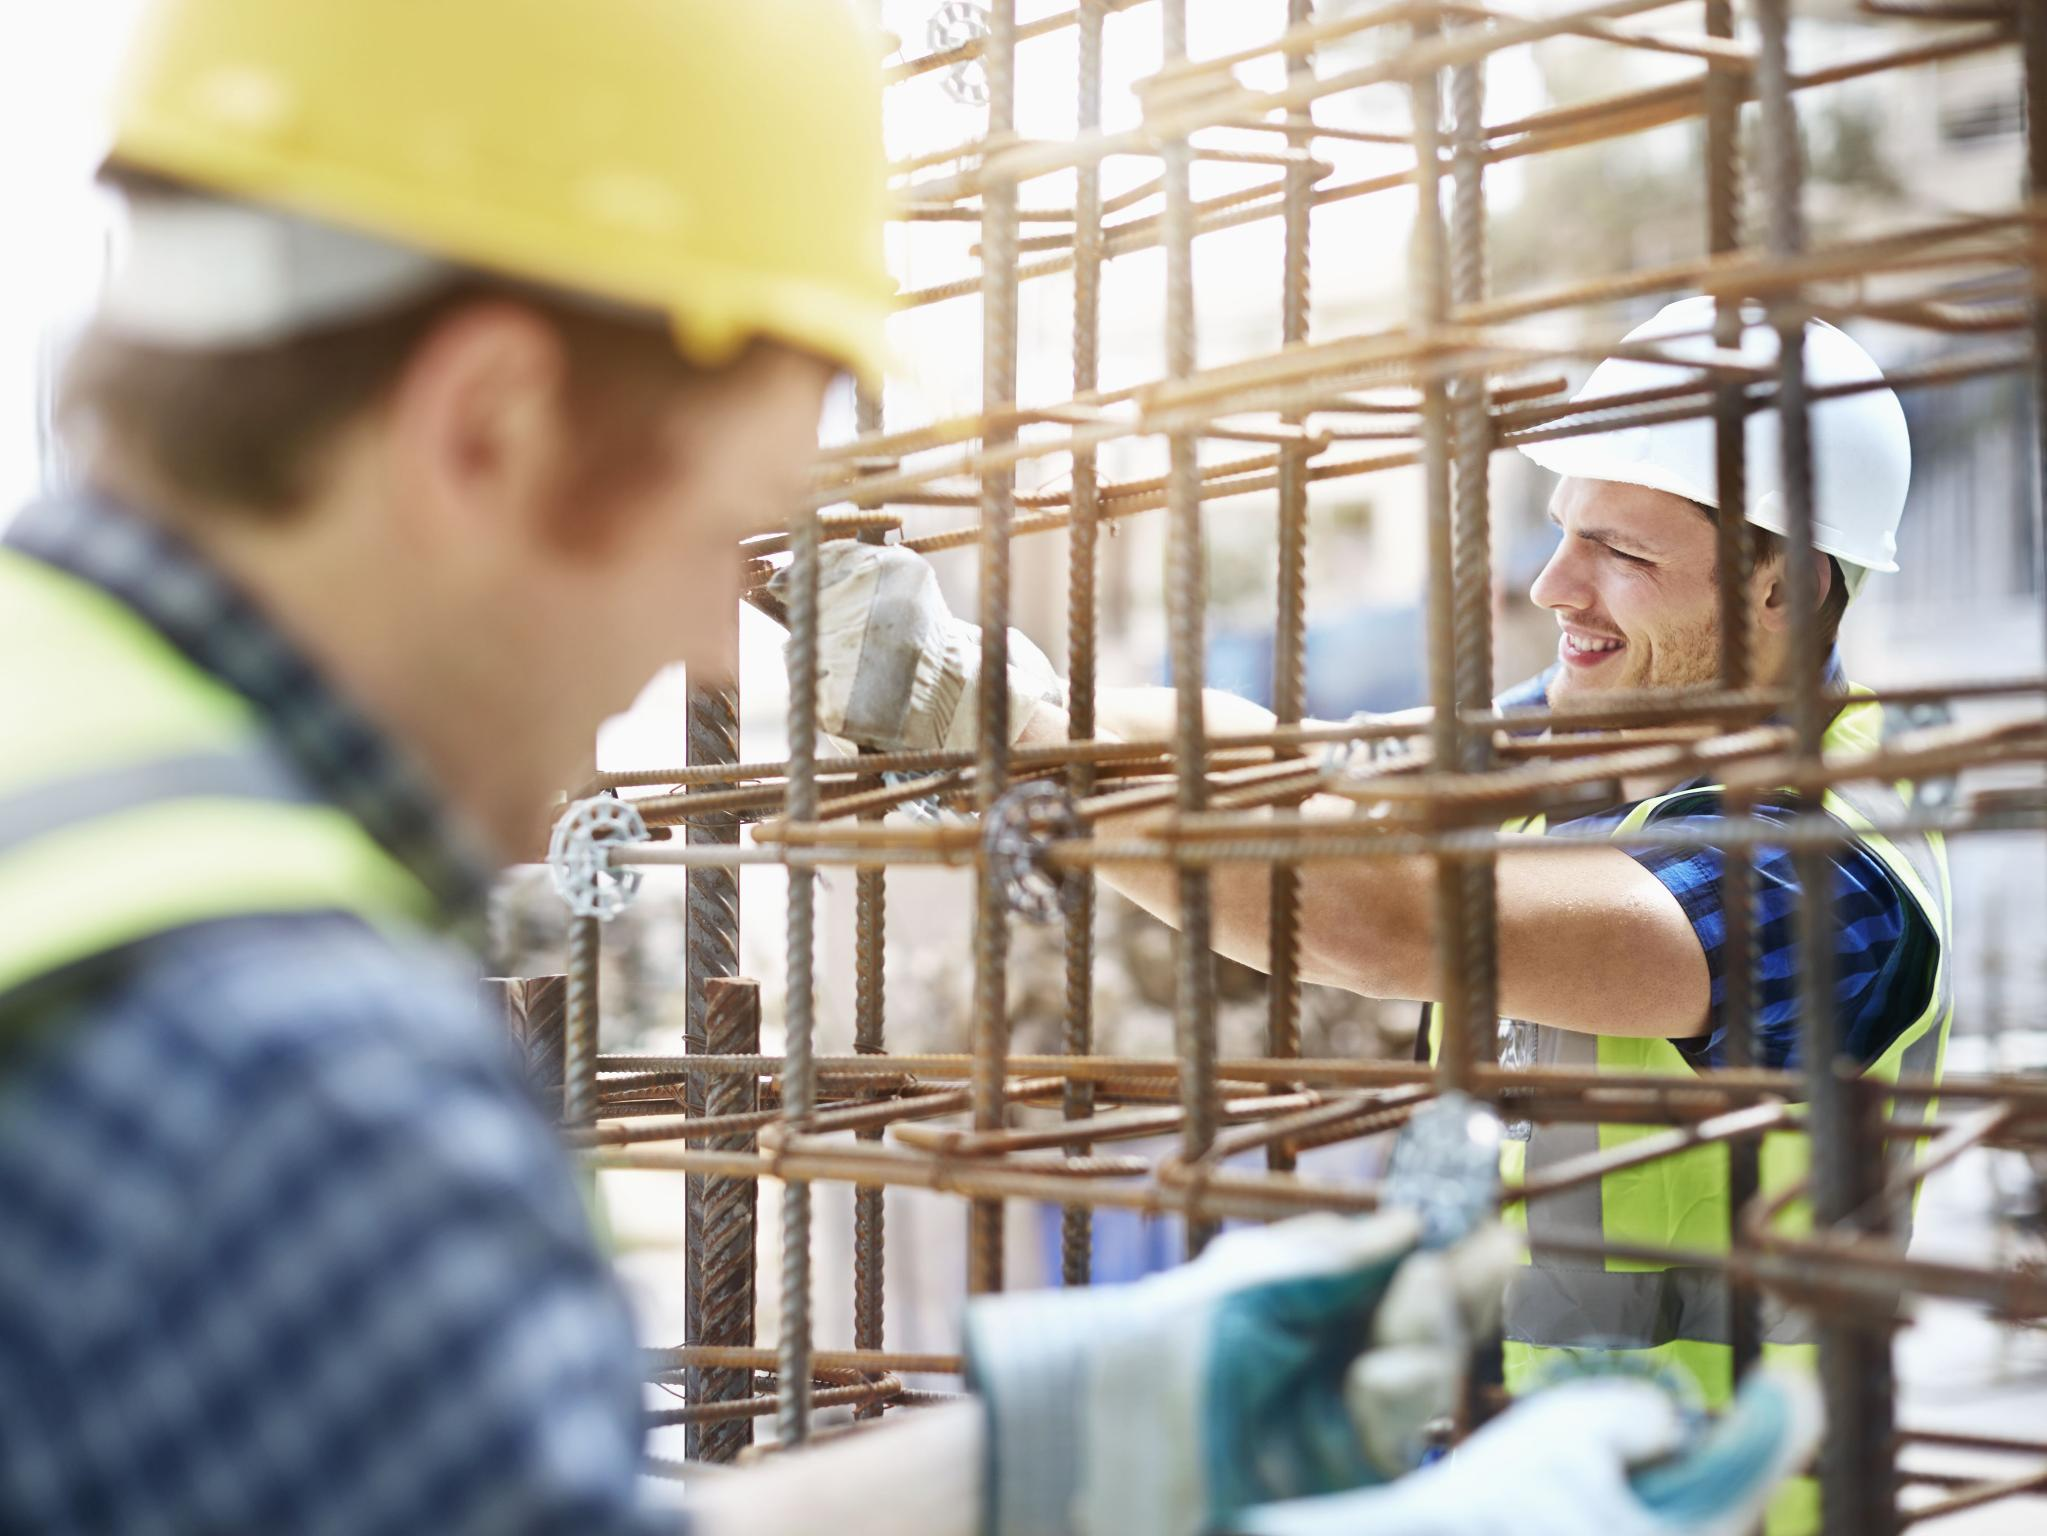helmet: (97, 0, 923, 416), (1503, 290, 1916, 578)
wear: (2, 565, 465, 1536), (1449, 792, 1952, 1442)
